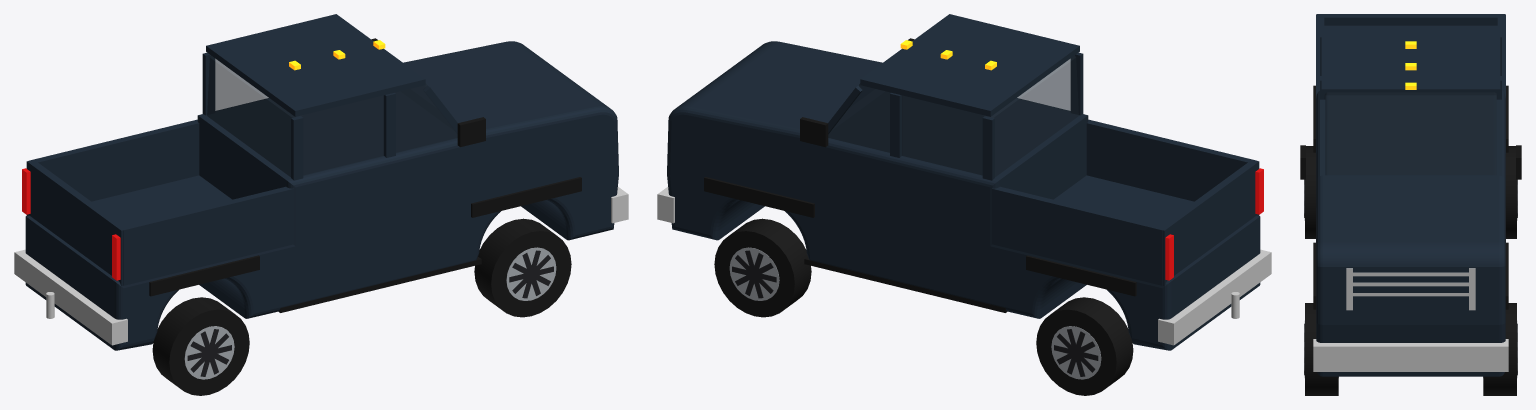
File: hdtruck.glb
3 views of the same model, side by side, from view 1: azimuth 30°, elevation 25°; view 2: azimuth 150°, elevation 25°; view 3: azimuth 270°, elevation 25° (orthographic).
Visible parts, largest first — view 1: vehicle_hdtruck; view 2: vehicle_hdtruck; view 3: vehicle_hdtruck.
Part boxes in pixels (x1,y1,x2,y2): vehicle_hdtruck: [14, 14, 628, 395]; vehicle_hdtruck: [657, 14, 1271, 395]; vehicle_hdtruck: [1300, 14, 1521, 395].
Size of the model in its own units: 6.62 by 3.07 by 2.38.
